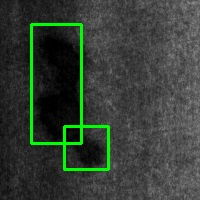patches: (31, 24, 81, 143), (64, 126, 108, 169)
